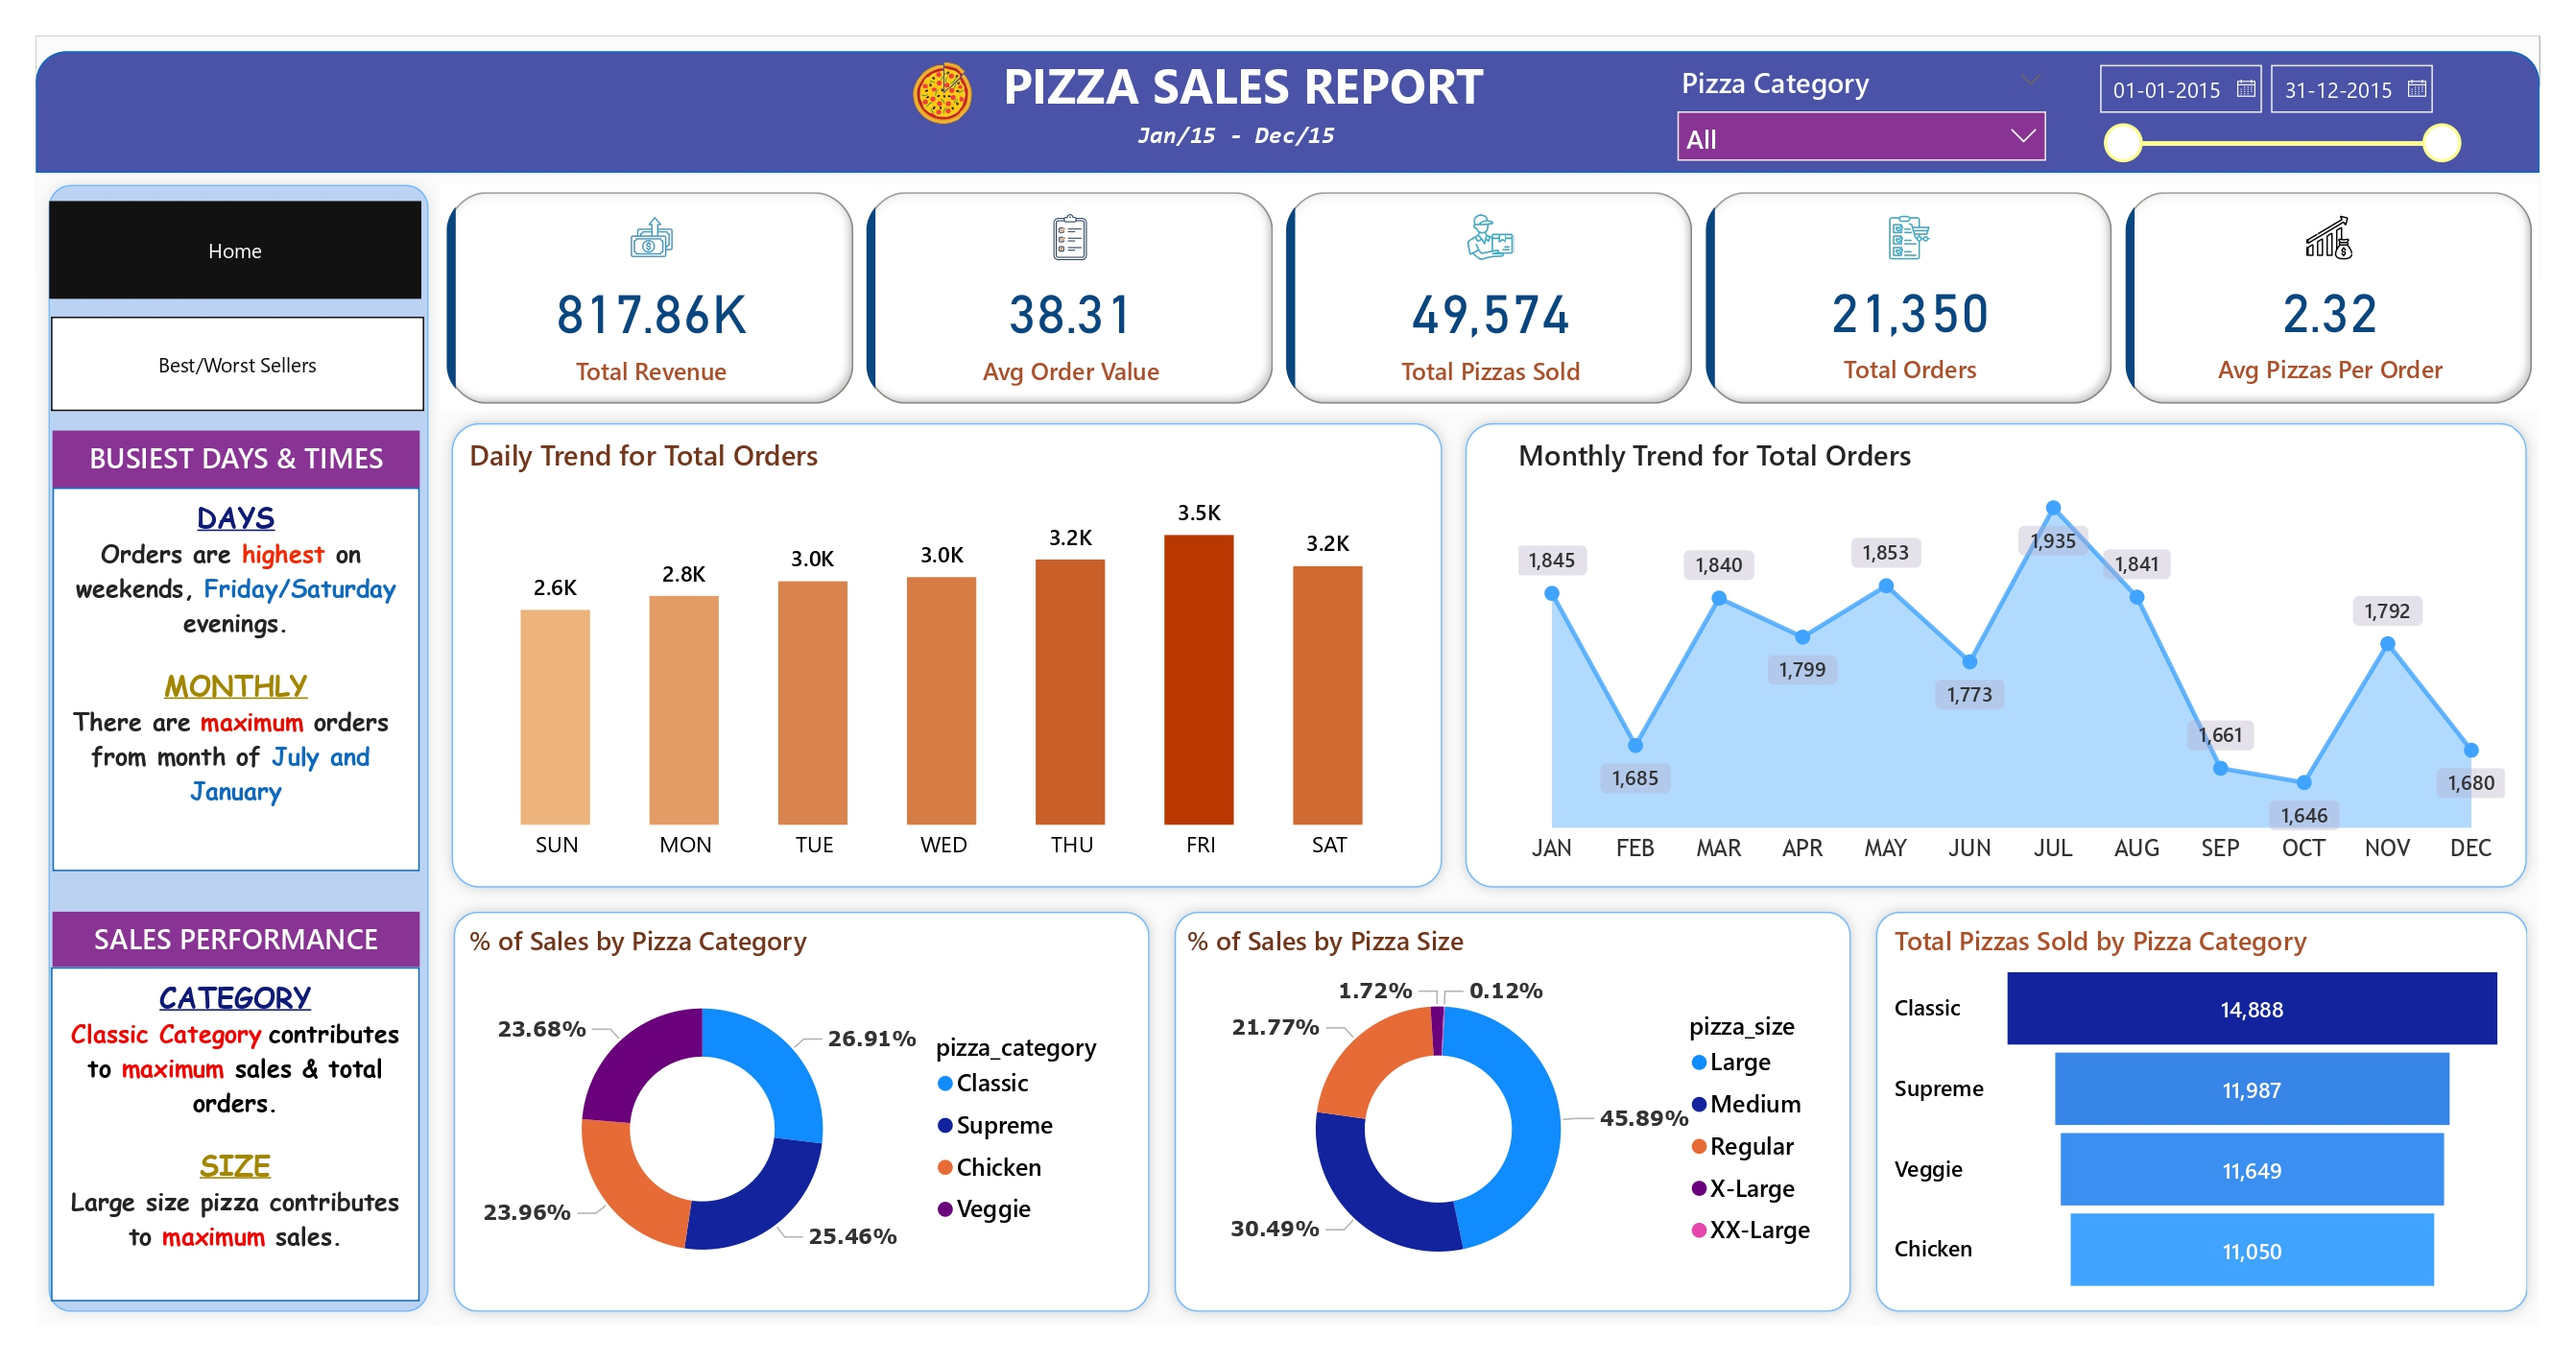

This screenshot's page, from the dashboard's own definition file:
{"tool":"powerbi","page":{"name":"Home","canvas":[1670,860],"ordinal":0},"visuals":[{"type":"shape","box":[0,90.8,269.7,768.6],"z":0},{"type":"textbox","box":[11.1,584.3,245.2,36.6],"z":1000},{"type":"cardVisual","fields":{"Data":["pizza_sales (1).Total Revenue","pizza_sales (1).Avg Order Value","pizza_sales (1).Total Pizzas Sold","pizza_sales (1).Total Orders","pizza_sales (1).Avg Pizzas Per Order"]},"box":[269,98.7,1401,151.2],"z":2000},{"type":"shape","box":[0,9.8,1670,81.1],"z":3000},{"type":"textbox","box":[563.4,12.8,484.5,67.9],"z":4000},{"type":"textbox","box":[673.5,51.4,253.3,38.5],"z":5000},{"type":"image","box":[567.1,9.2,75.2,56.9],"z":6000},{"type":"shape","box":[269,249.9,676.6,326.4],"z":7000},{"type":"columnChart","title":"Daily Trend for Total Orders","fields":{"Category":["pizza_sales (1).Order Day"],"Y":["pizza_sales (1).Total Orders"]},"box":[284.5,266.1,642.3,293.6],"z":8000},{"type":"shape","box":[945.1,249.6,724.9,326.7],"z":9000},{"type":"areaChart","title":"Monthly Trend for Total Orders","fields":{"Category":["pizza_sales (1).Order Month"],"Y":["pizza_sales (1).Total Orders"]},"box":[983.6,266.1,668,293.6],"z":10000},{"type":"shape","box":[269.8,576.2,480.8,282.6],"z":11000},{"type":"shape","box":[750.6,576.2,468,282.6],"z":12000},{"type":"shape","box":[1218.5,576.2,451.5,282.6],"z":13000},{"type":"donutChart","title":"% of Sales by Pizza Category","fields":{"Category":["pizza_sales (1).pizza_category"],"Y":["pizza_sales (1).Total Revenue"]},"box":[284.5,590.9,451.5,253.3],"z":14000},{"type":"donutChart","title":"% of Sales by Pizza Size","fields":{"Category":["pizza_sales (1).pizza_size"],"Y":["pizza_sales (1).Total Revenue"]},"box":[763.4,590.9,438.6,253.3],"z":15000},{"type":"funnel","title":"Total Pizzas Sold by Pizza Category","fields":{"Category":["pizza_sales (1).pizza_category"],"Y":["pizza_sales (1).Total Pizzas Sold"]},"box":[1235.1,590.9,416.6,253.3],"z":16000},{"type":"slicer","fields":{"Values":["pizza_sales (1).pizza_category"]},"box":[1084.6,12.8,266.1,77.1],"z":17000},{"type":"slicer","fields":{"Values":["pizza_sales (1).order_date"]},"box":[1363.8,8.6,262.1,84.5],"z":18000},{"type":"textbox","box":[11.1,300.9,245.2,256.3],"z":19000},{"type":"textbox","box":[11.1,262.7,245.2,38.2],"z":20000},{"type":"textbox","box":[9.6,620.9,246.8,222.9],"z":21000},{"type":"pageNavigator","box":[8.7,110.1,248.2,64.7],"z":22000},{"type":"pageNavigator","box":[10.5,187,248.2,62.9],"z":23000}]}

Visuals, with their boxes in screenshot pixels (x1, y1, x2, y2):
shape: 36/172/441/1326
textbox: 53/913/420/968
cardVisual - pizza_sales (1).Total Revenue x pizza_sales (1).Avg Order Value: 440/184/2540/411
shape: 36/51/2540/173
textbox: 881/56/1608/157
textbox: 1046/113/1425/171
image: 886/50/999/135
shape: 440/411/1454/900
"Daily Trend for Total Orders" columnChart: 463/435/1425/875
shape: 1453/411/2540/900
"Monthly Trend for Total Orders" areaChart: 1511/435/2513/875
shape: 441/900/1161/1325
shape: 1161/900/1863/1325
shape: 1863/900/2540/1325
"% of Sales by Pizza Category" donutChart: 463/922/1139/1302
"% of Sales by Pizza Size" donutChart: 1181/922/1838/1302
"Total Pizzas Sold by Pizza Category" funnel: 1888/922/2513/1302
slicer - pizza_sales (1).pizza_category: 1662/56/2062/171
slicer - pizza_sales (1).order_date: 2081/49/2474/176
textbox: 53/488/420/872
textbox: 53/430/420/488
textbox: 50/968/420/1302
pageNavigator: 49/202/421/299
pageNavigator: 52/317/424/411
